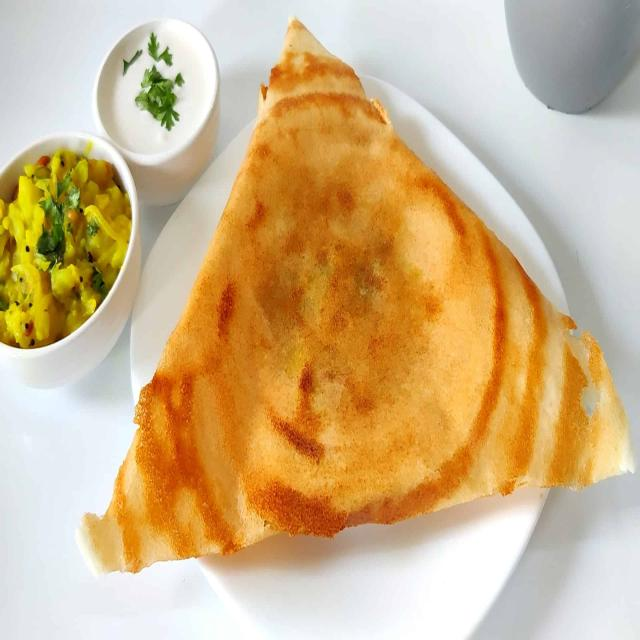DOSA: (100, 8, 640, 579)
